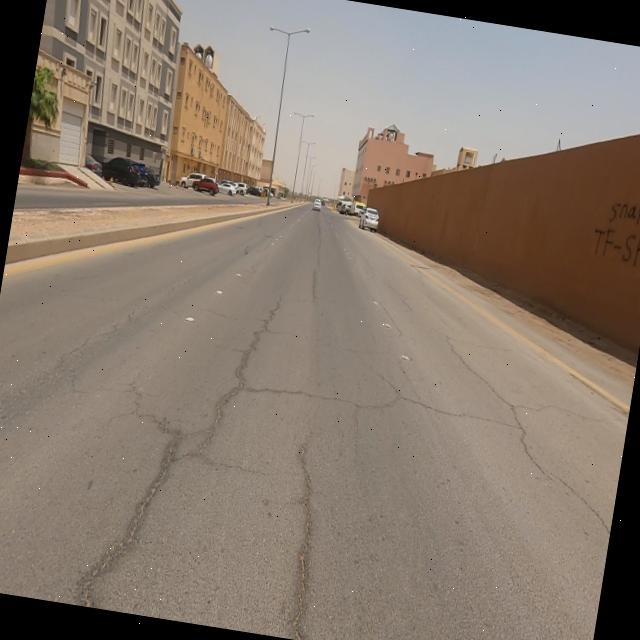Graffiti: (592, 197, 640, 266)
